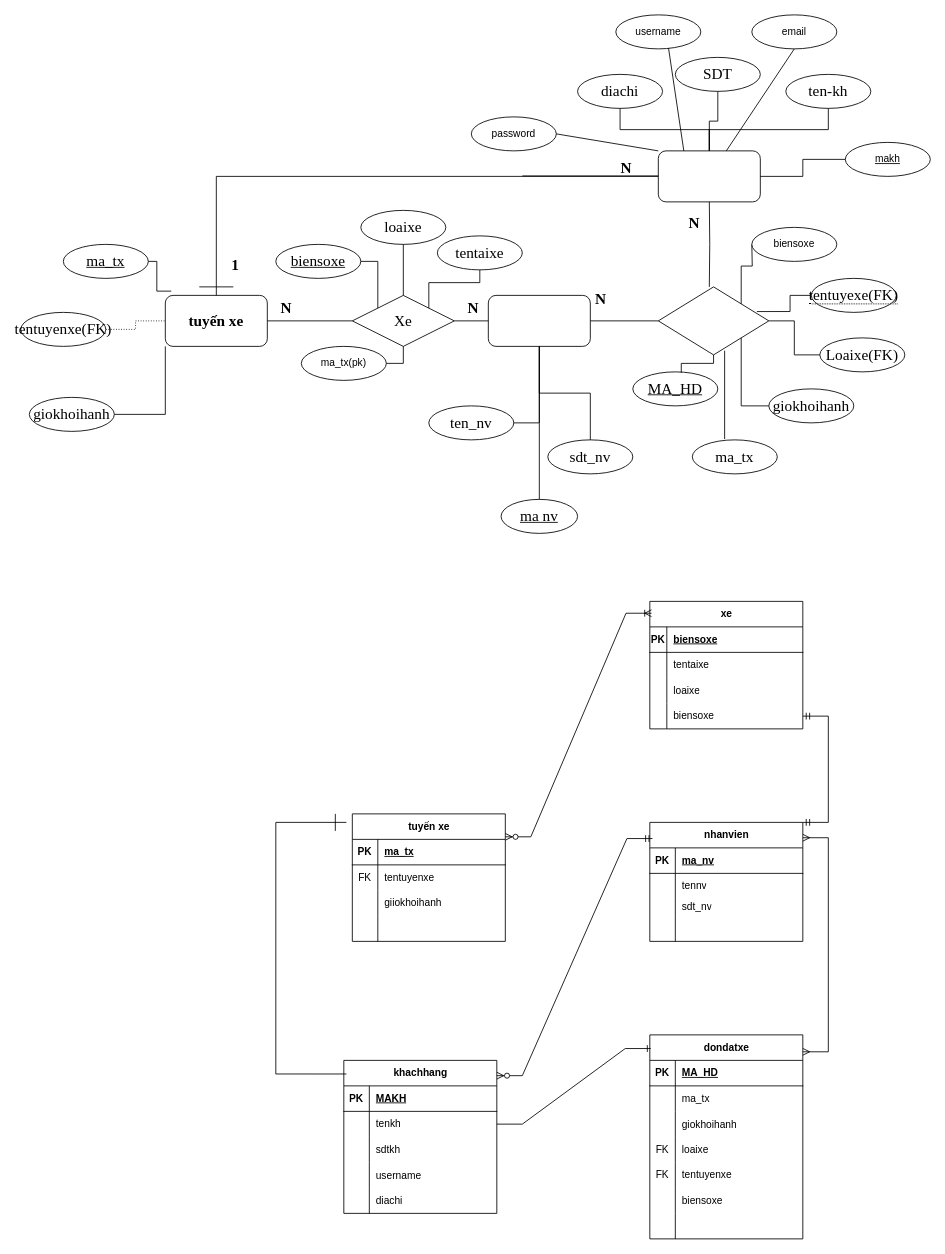
Some shapes in this 945 by 1254 pixel diagram are drawn without their labels. Here are the shapes that lost their labels. From the top down, the centre of each, then its label:
At (x=708, y=176): "khách hàng".
At (x=538, y=320): "nhân viên".
At (x=713, y=320): "đơn đặt xe".
